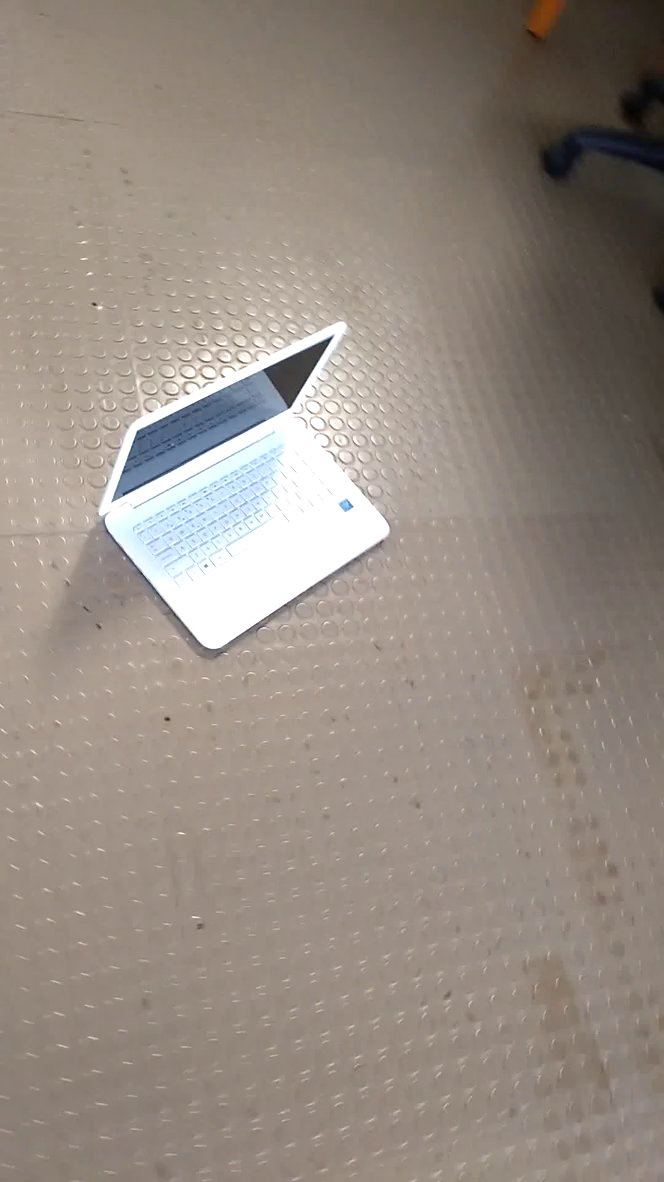laptop: (91, 311, 396, 668)
